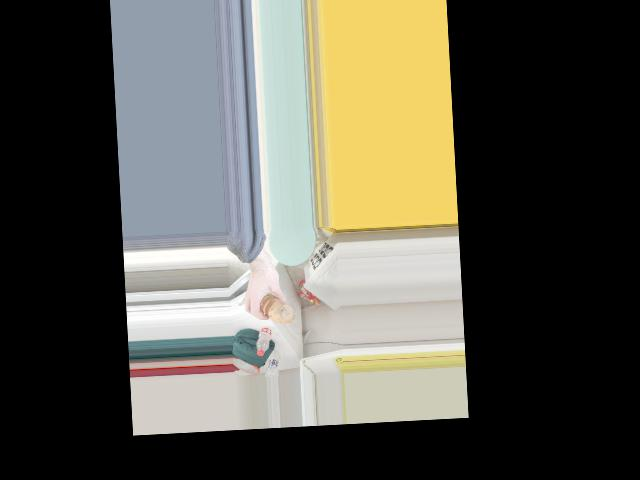sweet_potato: (262, 293, 293, 326)
